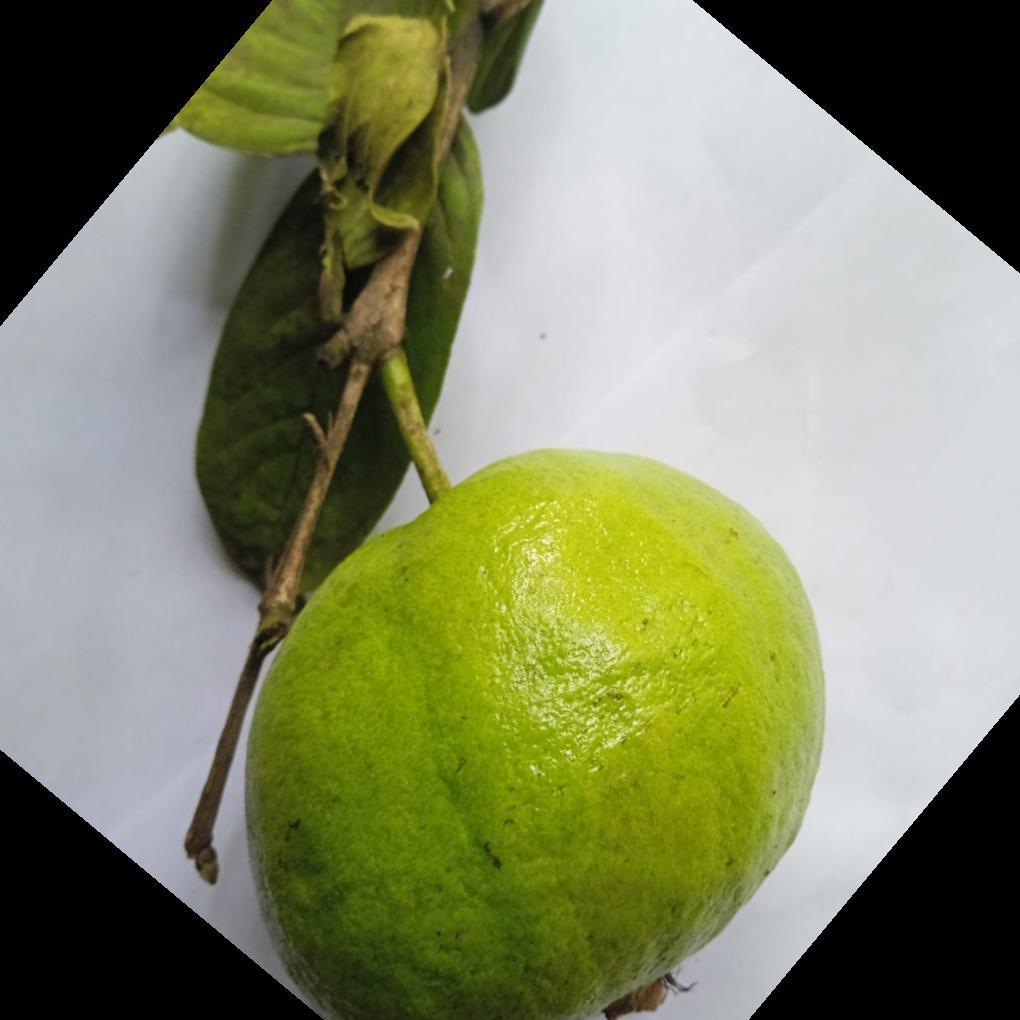FreshGuava: (243, 448, 827, 1020)
